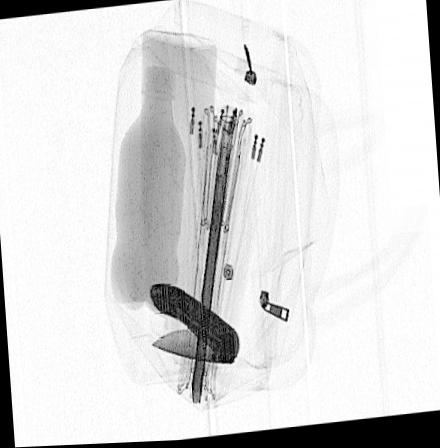Knife: (148, 283, 241, 368)
